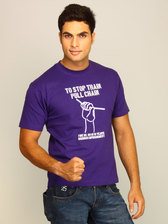clothoes: (19, 56, 135, 187)
